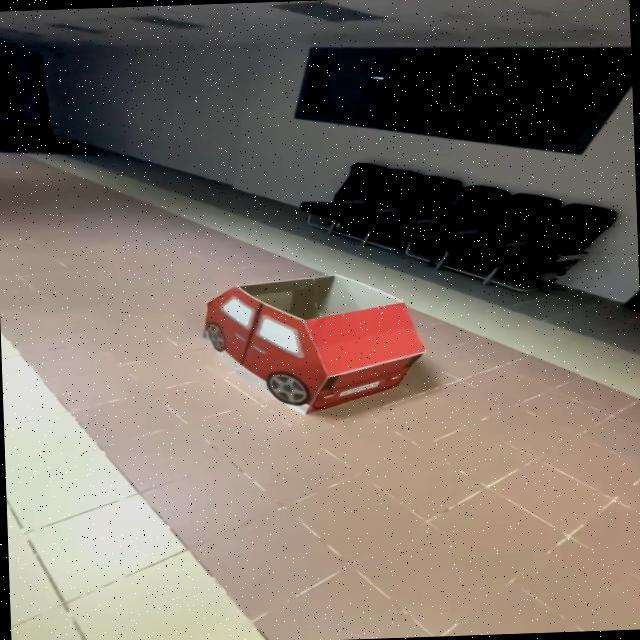red_car: (190, 252, 447, 452)
